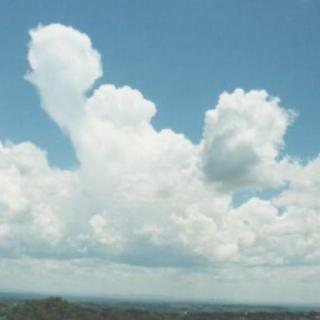Cumulus: (0, 26, 320, 288)
